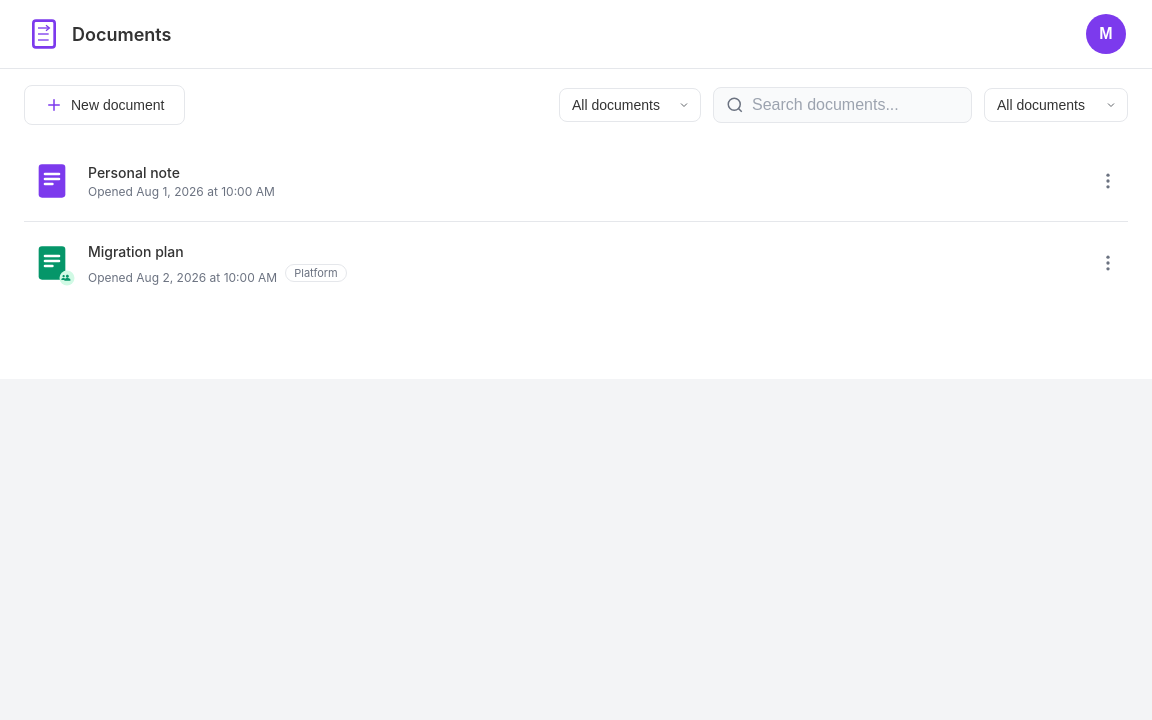
Test: DocList — spaces › treats "+ New space…" as an action: opens the create dialog, keeps the scope
Step 1. Select "+ New space…" in the dropdown named "Space" → x=630, y=105, box [559,88,701,122]
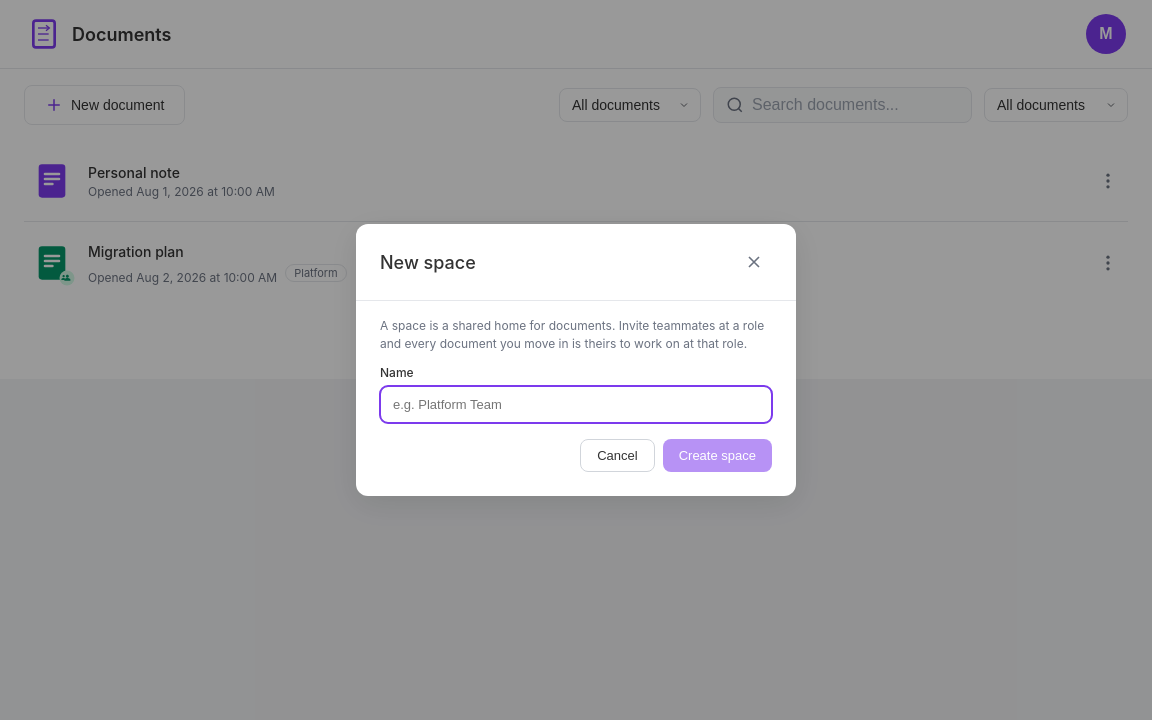
Expected: the heading "New space" is shown, [380,252,476,272]
